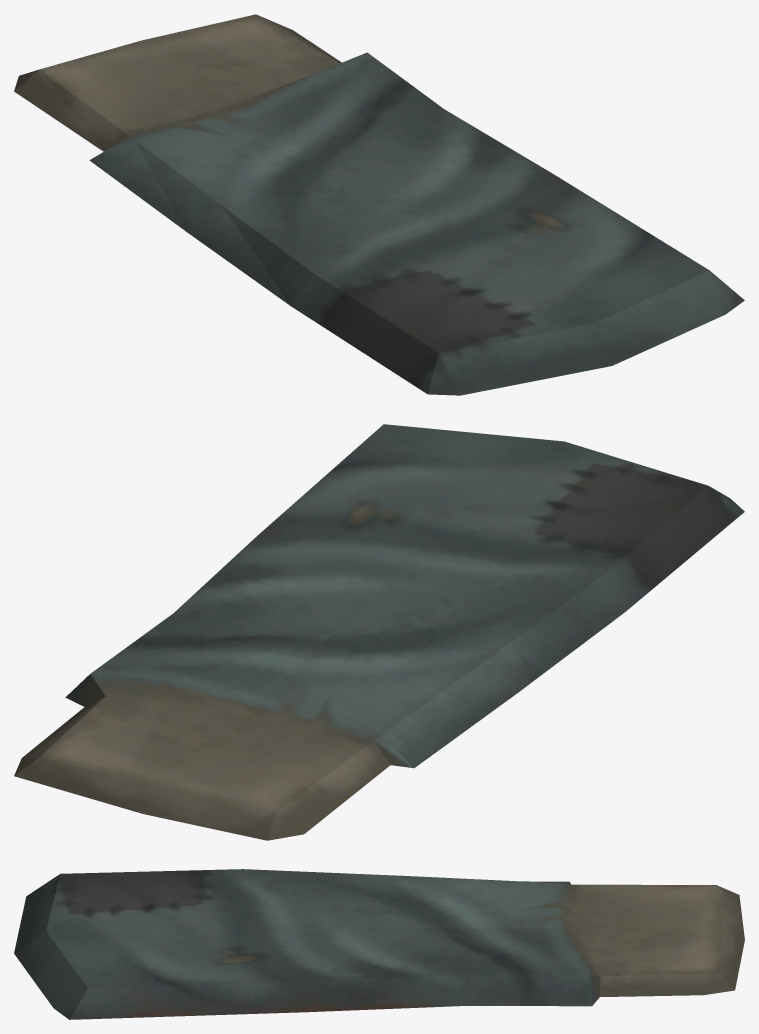
File: bandit_bed_02.fbx
3 views of the same model, one above another, from view 1: azimuth 30°, elevation 25°; view 2: azimuth 150°, elevation 25°; view 3: azimuth 270°, elevation 25° (orthographic). The views are drawn at different scales.
Parts seen in each view (by area): view 1: obj0.530; view 2: obj0.530; view 3: obj0.530.
Part boxes in pixels (x1,y1,x2,y2): obj0.530: [14, 14, 744, 395]; obj0.530: [14, 424, 744, 840]; obj0.530: [14, 869, 744, 1019].
Size of the model in its own units: 1.37 by 0.1028 by 3.06.
